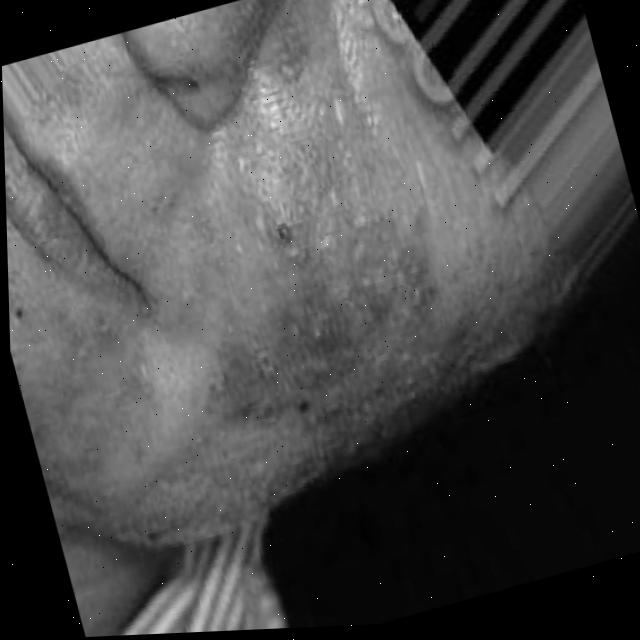Rosacea: (180, 160, 446, 424)
